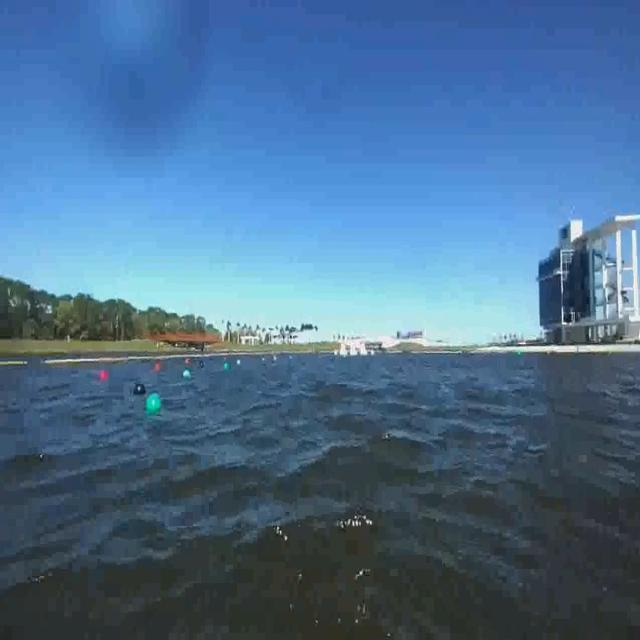black-buoy: (134, 382, 146, 397)
green-buoy: (147, 395, 162, 416)
red-buoy: (98, 368, 107, 379)
